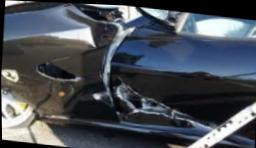Door: (112, 83, 217, 138)
Fender: (10, 32, 108, 118)
